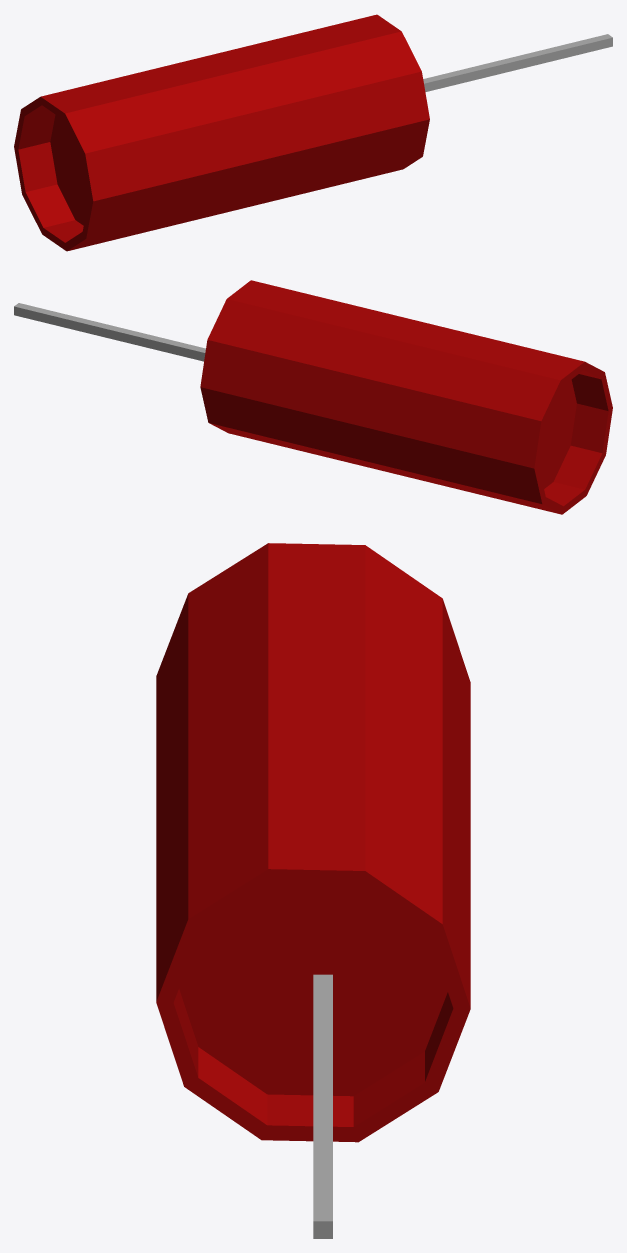
File: obj_Dynamite.fbx
3 renders of one model, top to bottom at view 1: azimuth 30°, elevation 25°; view 2: azimuth 150°, elevation 25°; view 3: azimuth 270°, elevation 25°, orthographic. The views are drawn at different scales.
Visible parts, largest first — view 1: obj_Dynamite_01, pCube14; view 2: obj_Dynamite_01, pCube14; view 3: obj_Dynamite_01, pCube14.
Boxes of the visible parts, bbox=[...] form: obj_Dynamite_01: bbox=[14, 14, 429, 251]; pCube14: bbox=[423, 34, 612, 92]; obj_Dynamite_01: bbox=[200, 280, 612, 514]; pCube14: bbox=[14, 303, 205, 361]; obj_Dynamite_01: bbox=[156, 543, 470, 1142]; pCube14: bbox=[313, 974, 332, 1238].
Size of the model in its own units: 32.03 by 7.53 by 7.86.
